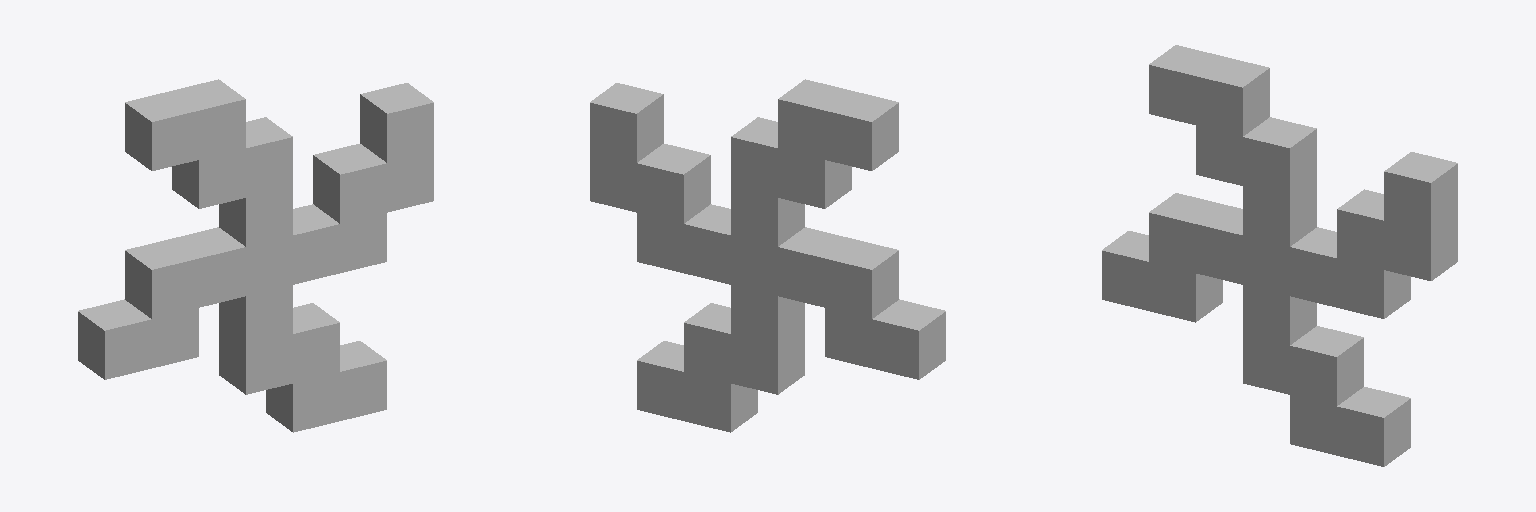
The model's file is ship-0.obj.
3 views of the same model, side by side, from view 1: azimuth 30°, elevation 25°; view 2: azimuth 150°, elevation 25°; view 3: azimuth 330°, elevation 25° (orthographic).
Parts seen in each view (by area): view 1: object 1; view 2: object 1; view 3: object 1.
Boxes of the visible parts, box(x1,y1,x2,y2) form: object 1: box(78, 79, 433, 432); object 1: box(590, 79, 945, 432); object 1: box(1102, 45, 1457, 466).
Bounding box in the file's own units: 0.7 × 0.7 × 0.1.